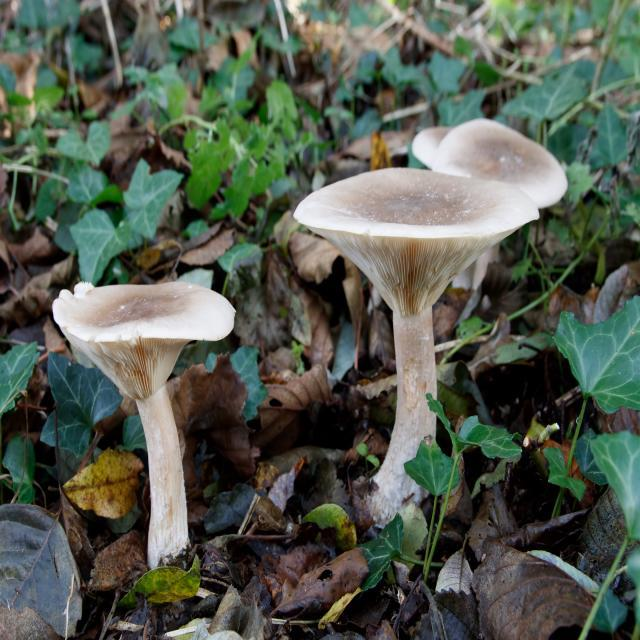Clitocybe maxima: (295, 166, 540, 505), (54, 276, 235, 563), (413, 122, 568, 285)
